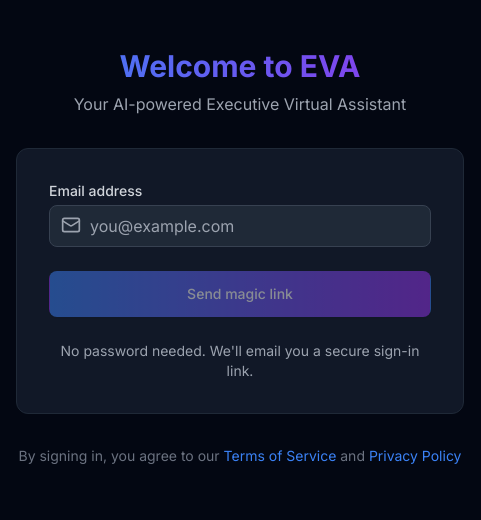
Scenario: LoginPage › shows error message when sending fails
Type "test@example.com" into the field labelled "Email address" at {"x": 240, "y": 226}, box x1=49 y1=205 x2=431 y2=247
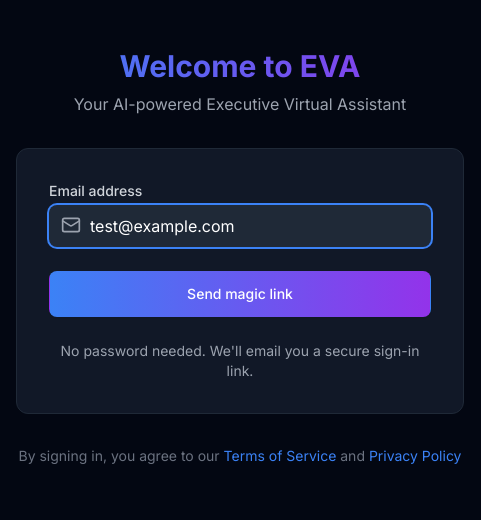
Click the button "Send magic link" at {"x": 240, "y": 294}, box x1=49 y1=271 x2=431 y2=317
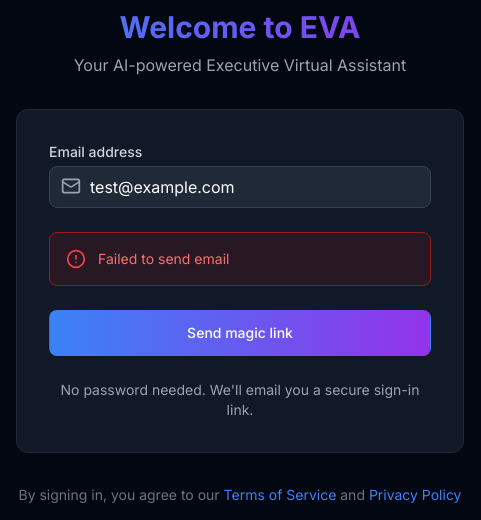
Check: the text "Failed to send email" is shown, box x1=98 y1=249 x2=229 y2=269
